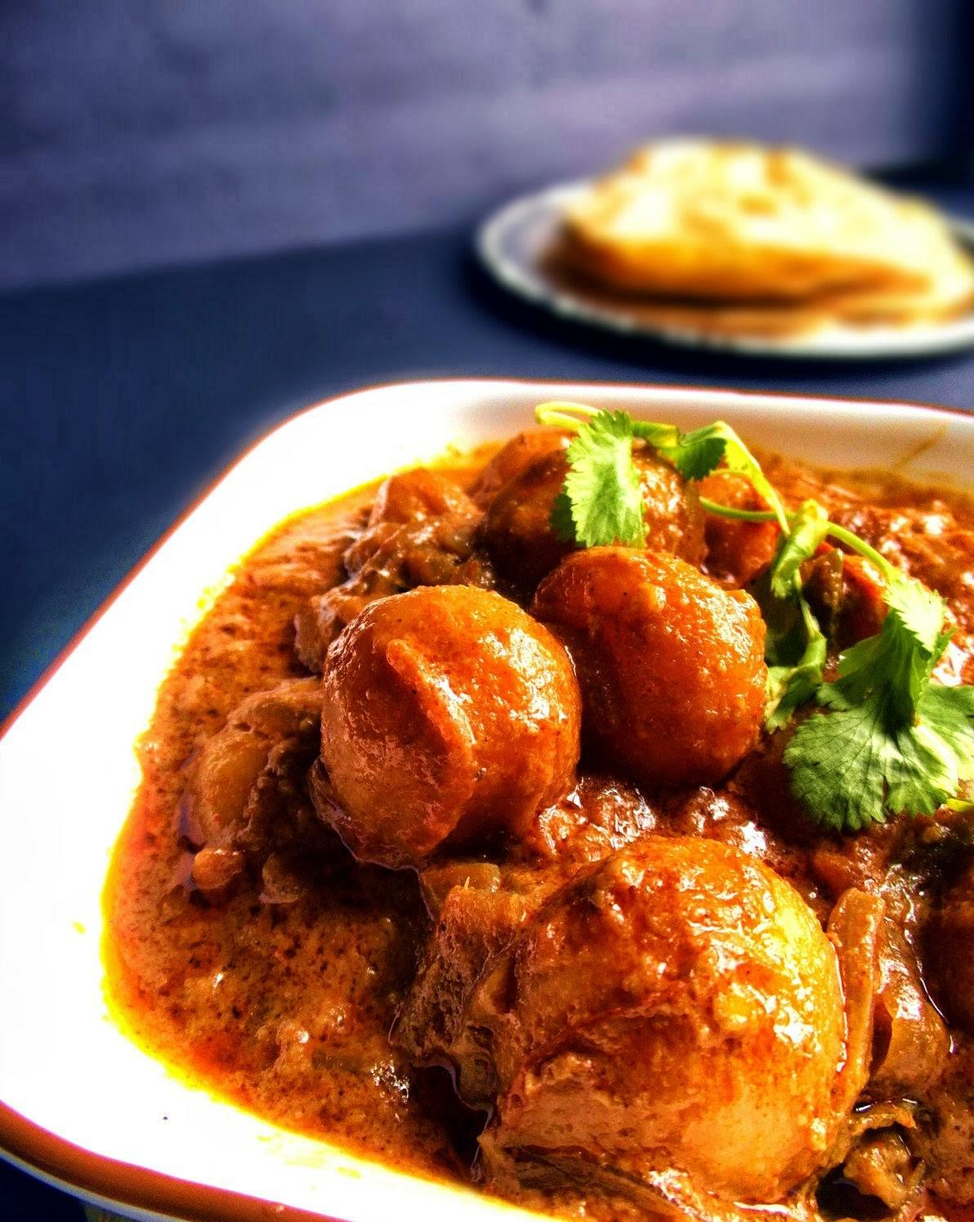DumAloo: (94, 390, 974, 1222)
